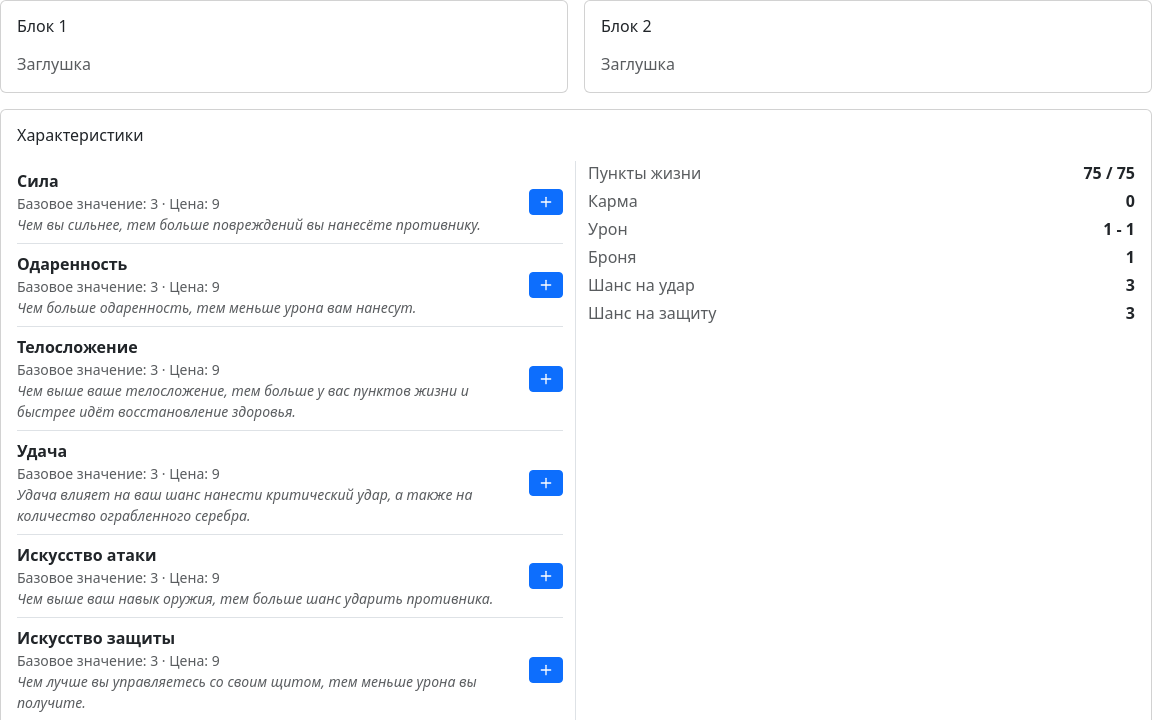
Test case: StatsPage › повышение: запрос с ключом, новые значения и цена применяются на странице
Click the button named "Повысить характеристику «Телосложение» за 9 серебра" at coordinates (546, 379), box [529,366,563,392]
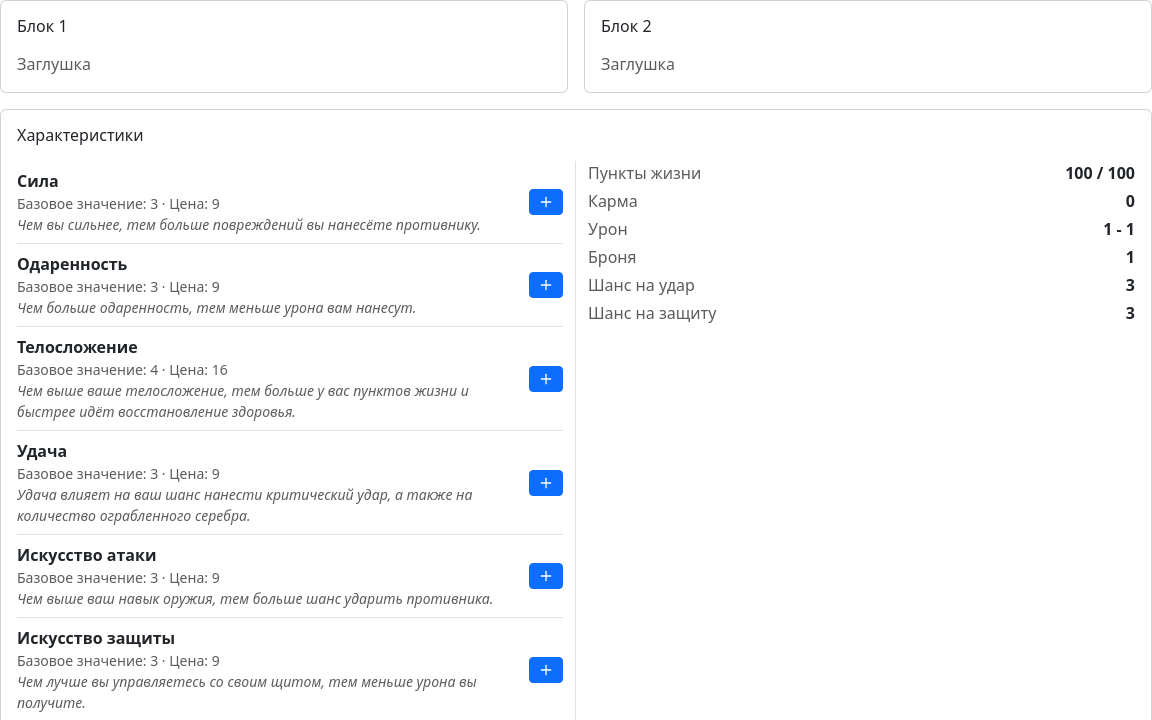
Now the text "100 / 100" is shown, box [1065,161,1135,185]
Now the text "Базовое значение: 4 · Цена: 16" is shown, box [17,360,228,379]
